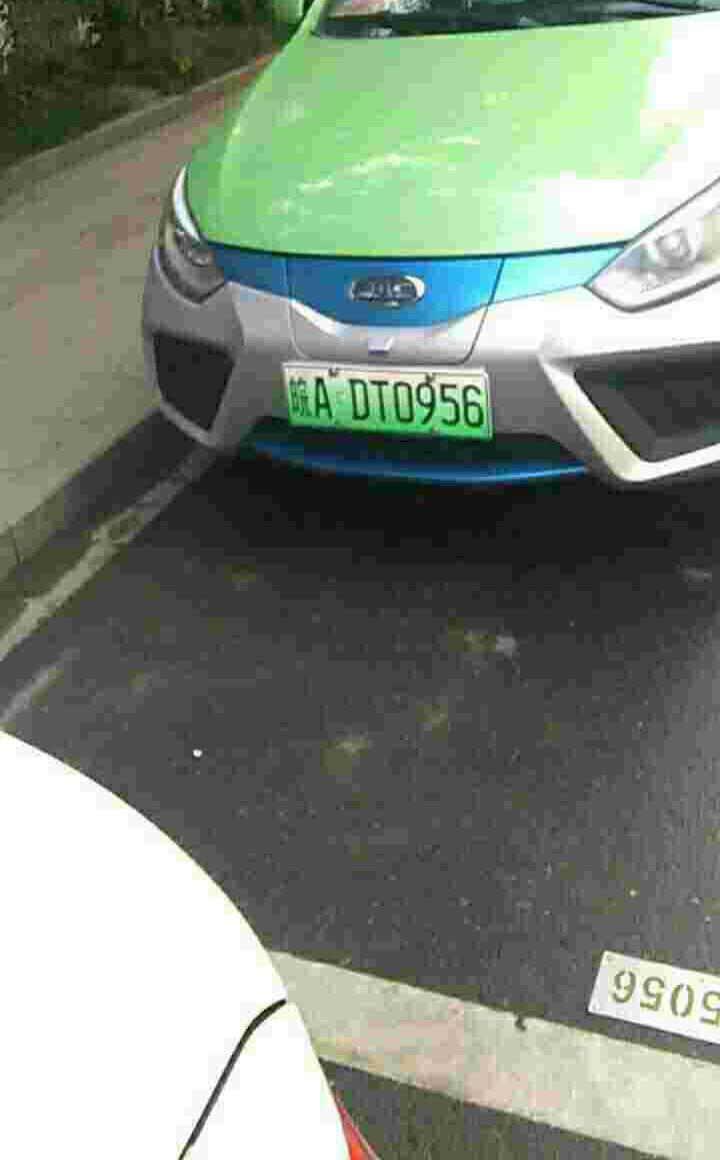car_green: (286, 358, 494, 437)
